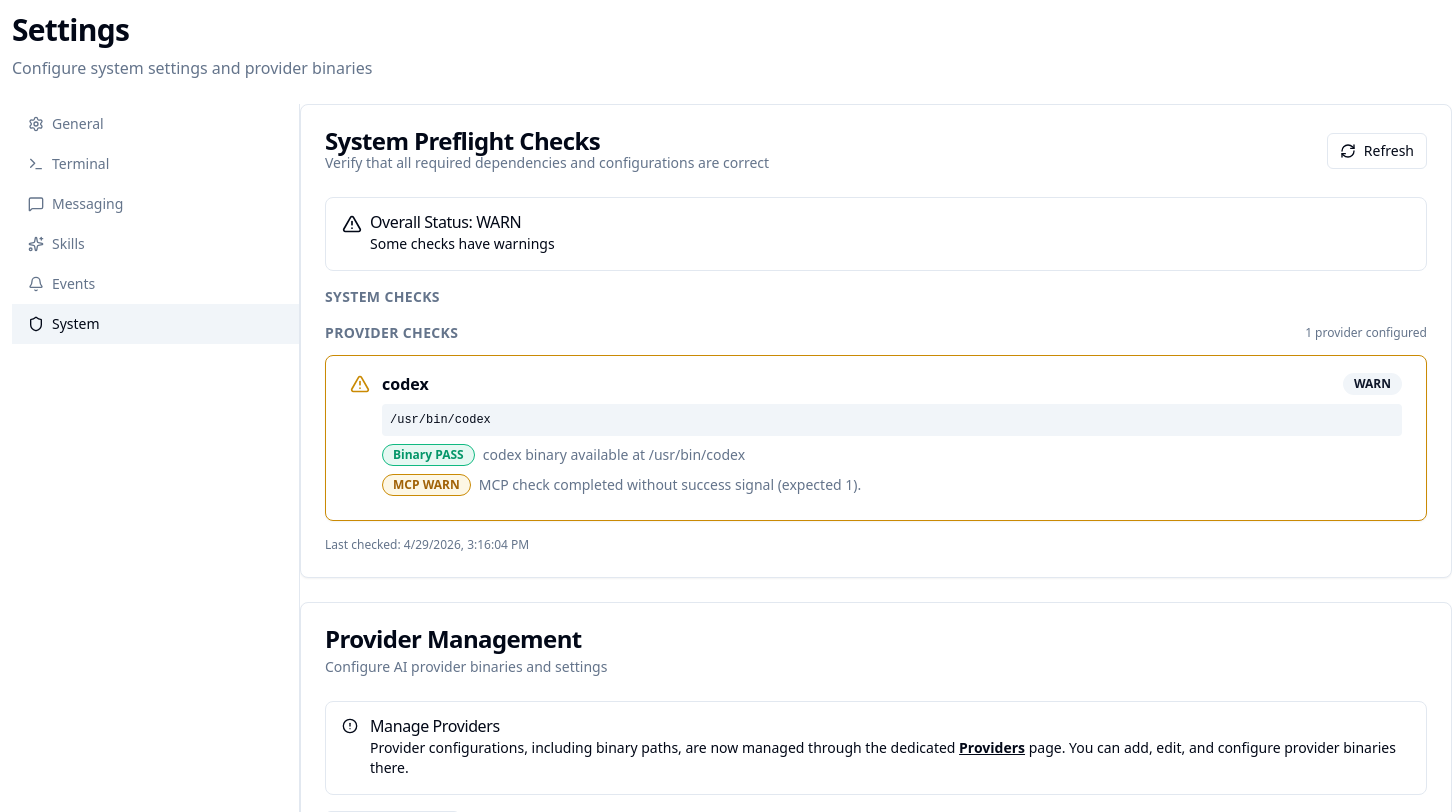
Test: SettingsPage preflight MCP provider rendering › renders MCP status and details, and updates on refresh
The width and height of the screenshot is (1452, 812).
expect the text "MCP WARN" is shown: met, box [382,474,471,496]
expect the text "MCP check completed without success signal (expected 1)." is shown: met, box [479,475,861,495]
Click the button "Refresh": point(1377, 151) [1327,133,1427,169]
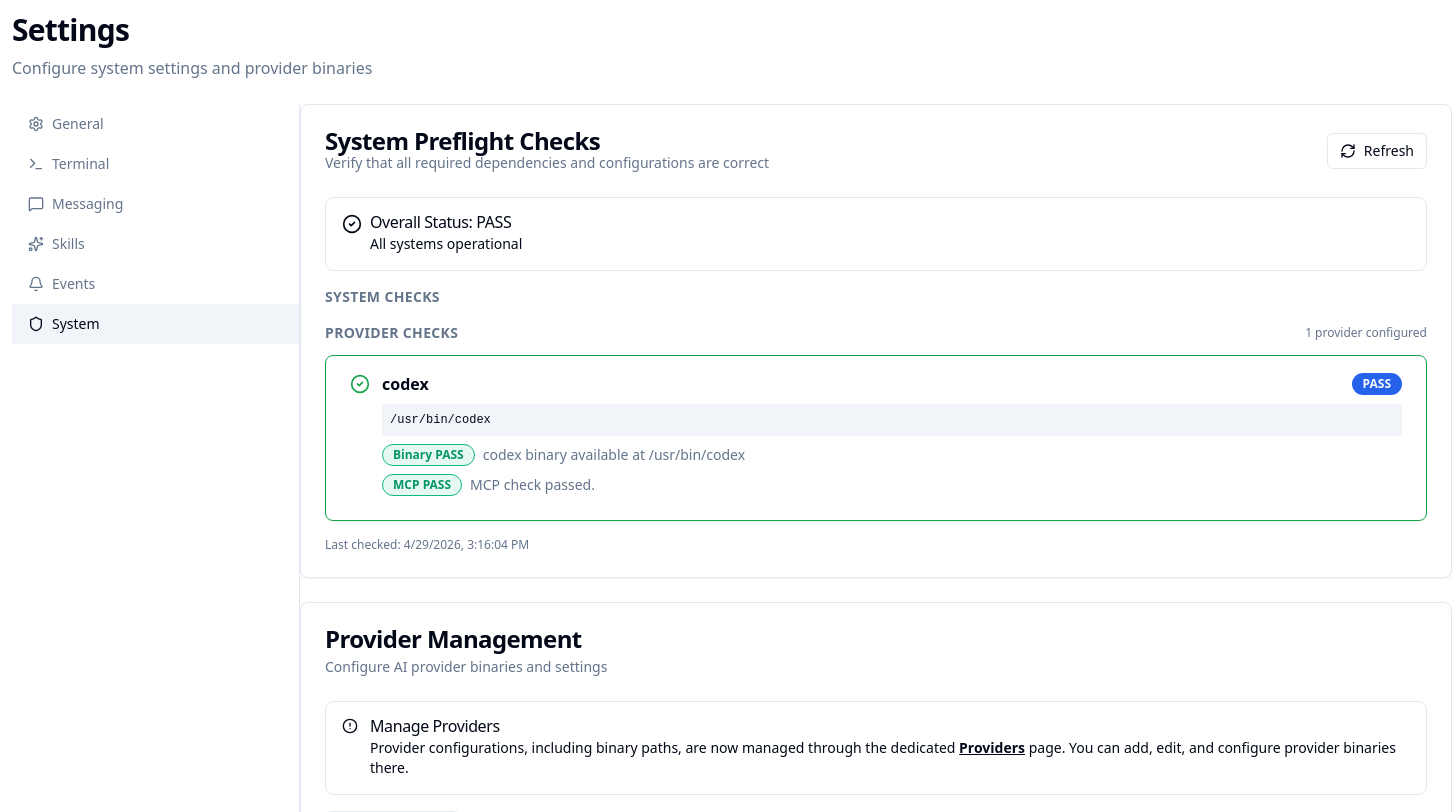
expect the text "MCP PASS" is shown: met, box [382,474,462,496]
expect the text "MCP check passed." is shown: met, box [470,475,595,495]
